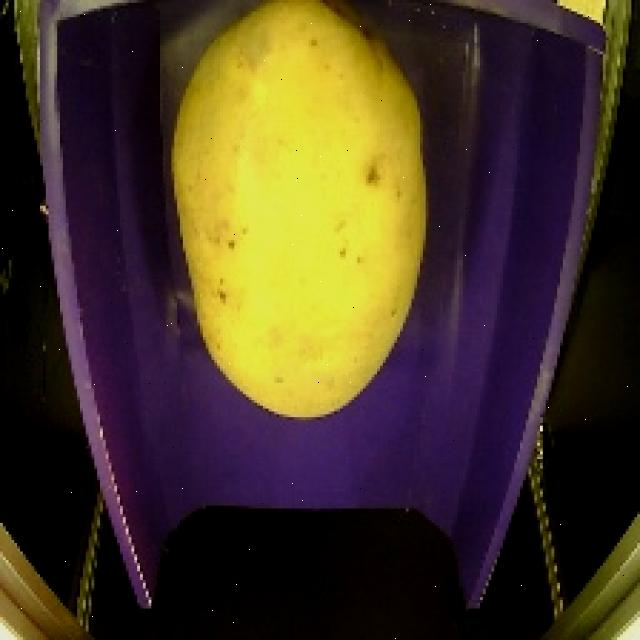full_potato: (160, 0, 442, 430)
